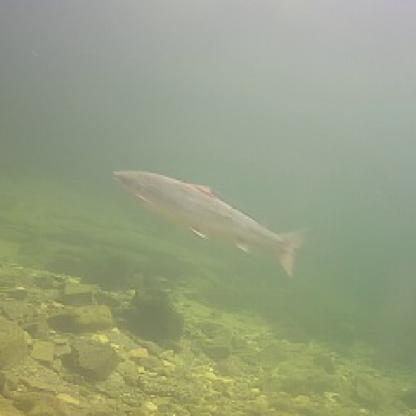salmon: (104, 163, 312, 277)
